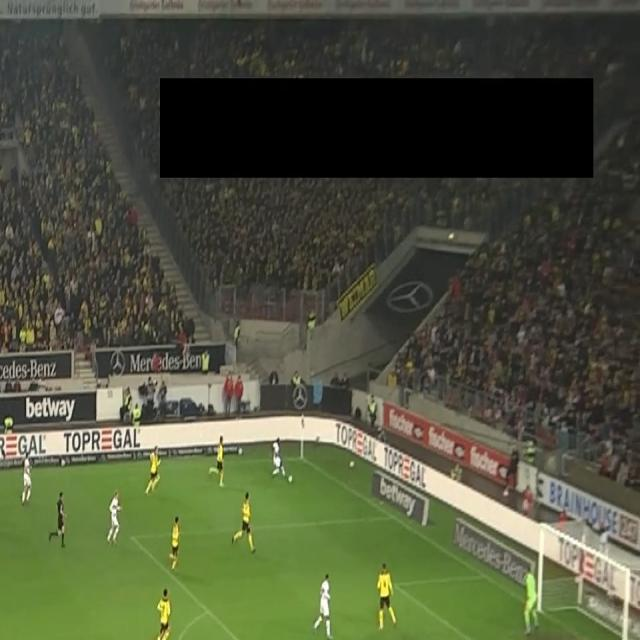ball: (287, 474, 293, 484)
